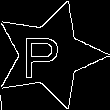P_N: (30, 30, 69, 80)
